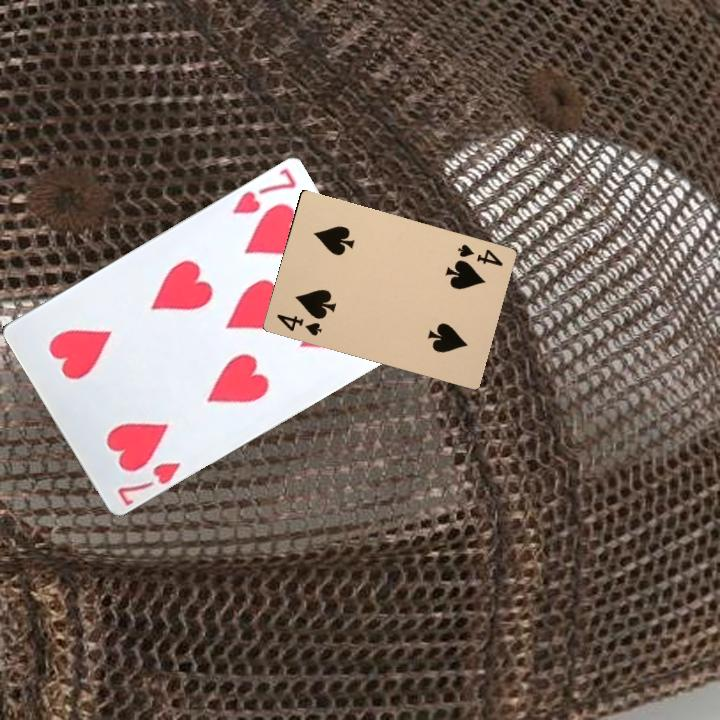4s: (453, 240, 505, 269), (273, 310, 324, 338)
7h: (228, 164, 299, 217), (113, 457, 184, 509)
